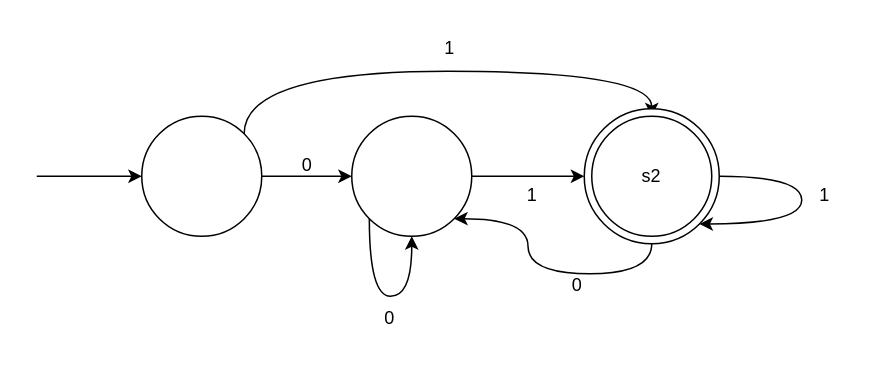
The diagram is 873 pixels wide and 366 high, and some of its shapes have lost their labels. The centre of each missing label's shape, as x and y in pixels:
"s0" goes at point (201, 175).
"s1" goes at point (411, 175).
